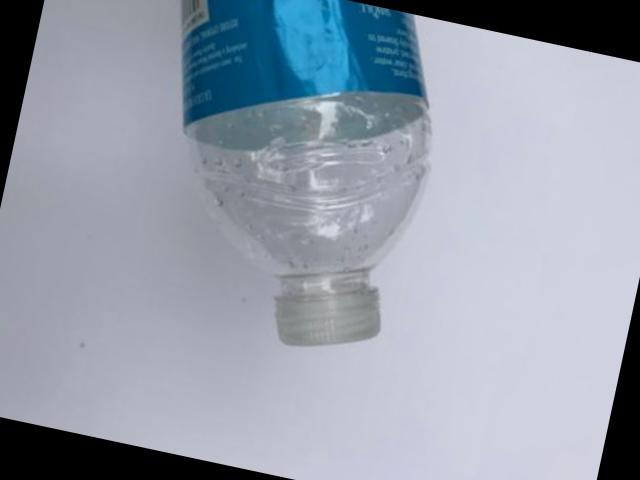plastic: (183, 0, 431, 348)
